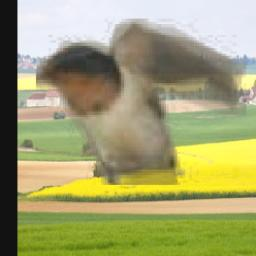Swallow: (35, 19, 245, 185)
